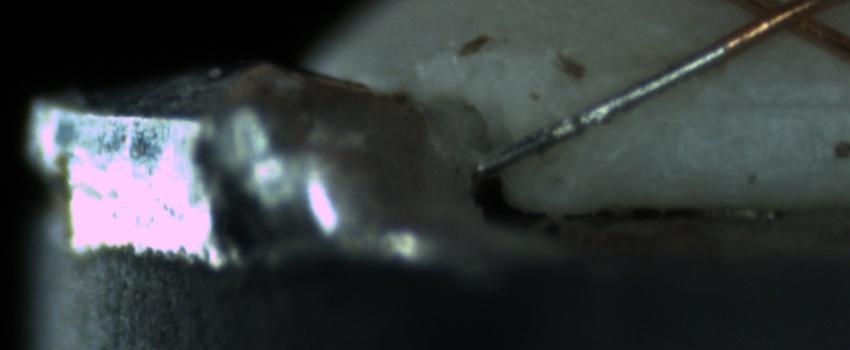CL: (725, 0, 833, 44)
DL: (705, 74, 850, 137)
TS: (472, 41, 725, 176)
